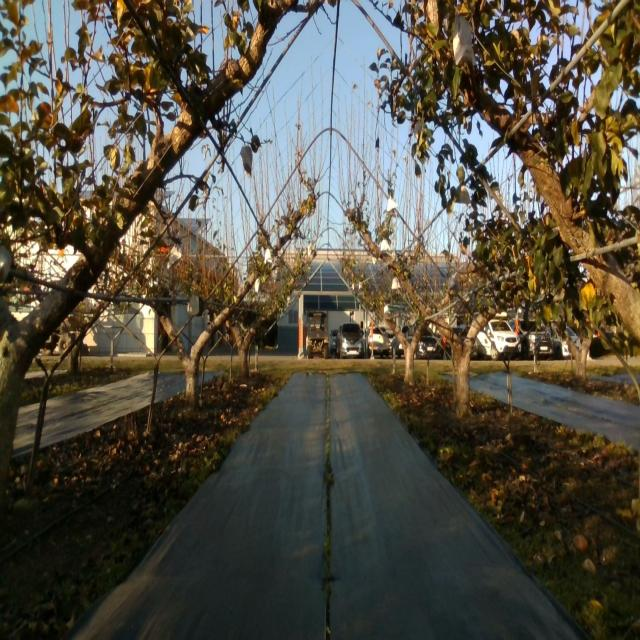pearbags: (451, 14, 477, 69), (238, 143, 252, 178), (454, 182, 472, 206), (167, 244, 182, 269)
